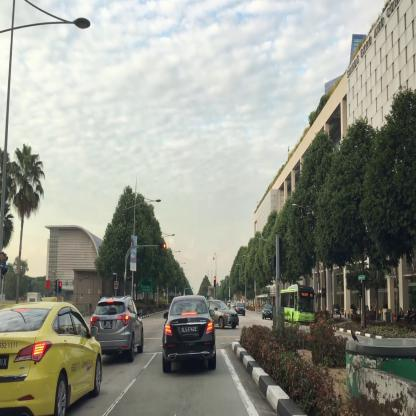red_traffic_light: (158, 244, 166, 247), (214, 276, 215, 288)
